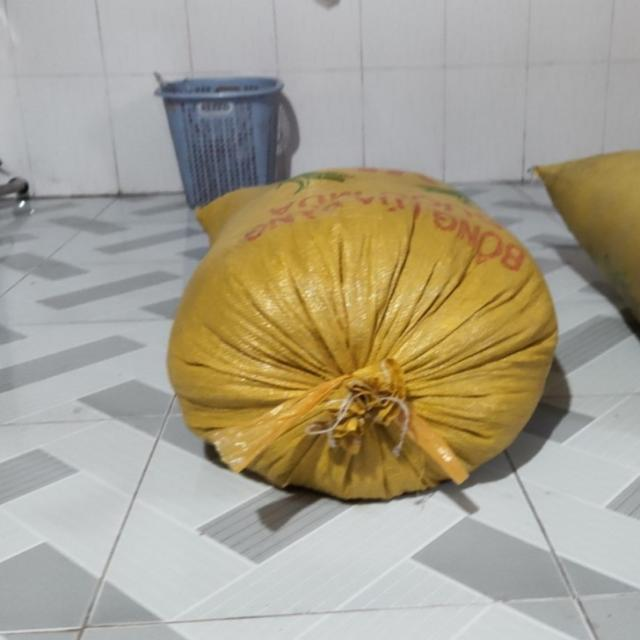gunny_bag: (169, 169, 558, 500)
